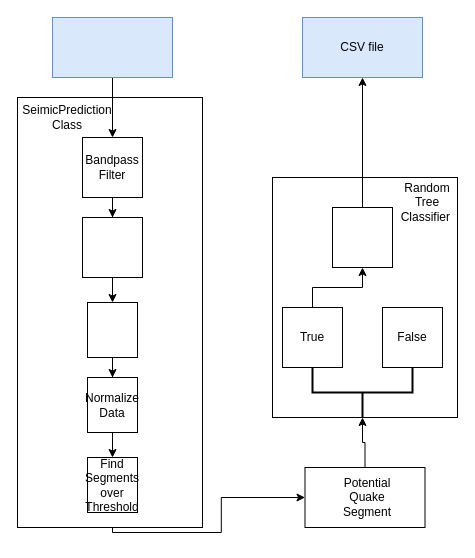
The diagram is 475 pixels wide and 558 high, and some of its shapes have lost their labels. Here are the shapes that lost their labels. From the top down, the box of each, then its label:
(52, 16, 172, 78): Seismic Data
(82, 216, 142, 278): Convert Data to Energy Decay
(332, 206, 392, 268): Segment Appended
(86, 302, 138, 358): Find Moving Average
